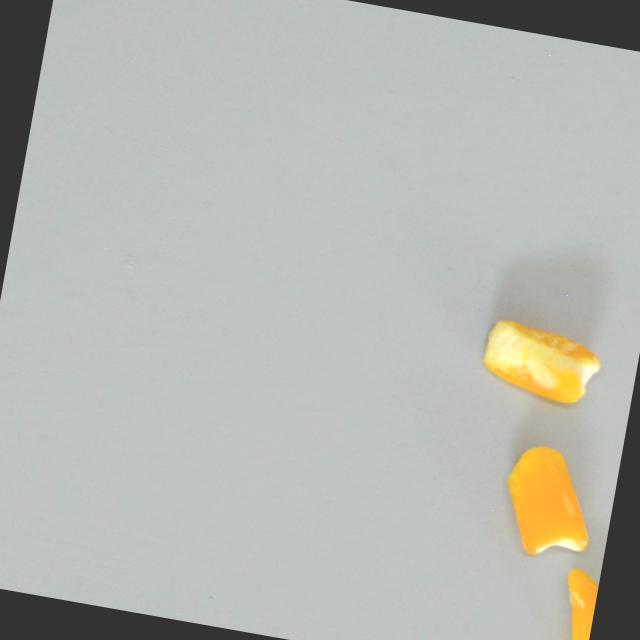estandar: (494, 440, 607, 564), (556, 565, 601, 640)
pelicula: (477, 315, 605, 407)
